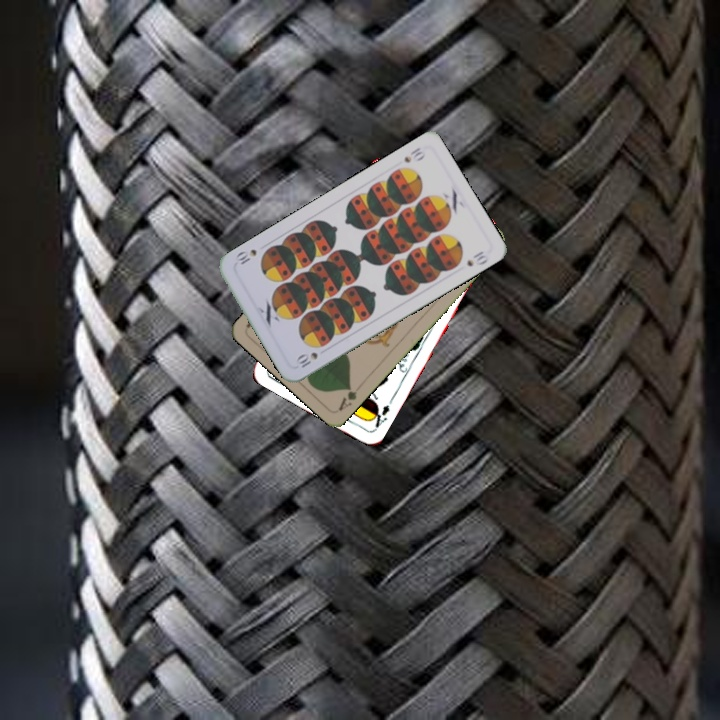EA: (366, 395, 395, 433)
GA: (334, 381, 359, 413)
S10: (292, 348, 320, 370), (400, 143, 428, 165)
